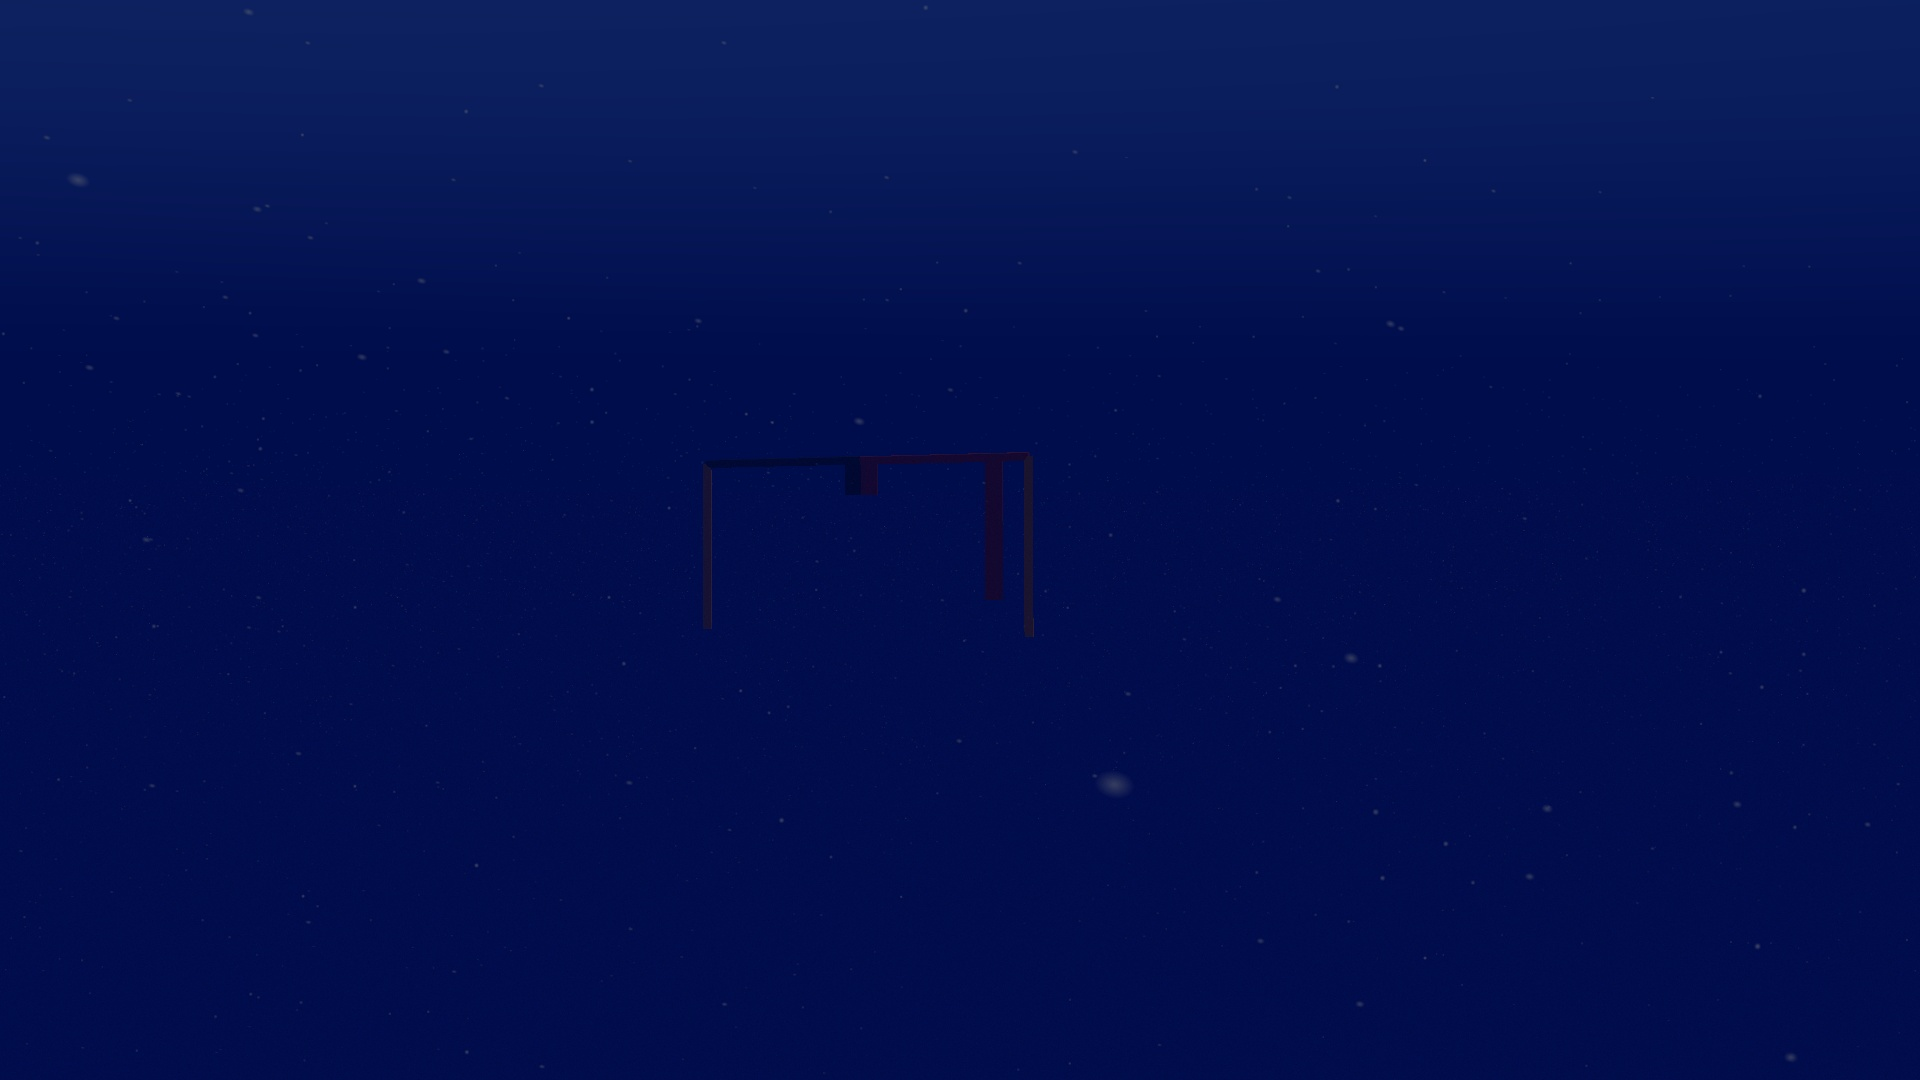Gate: (694, 444, 1044, 651)
